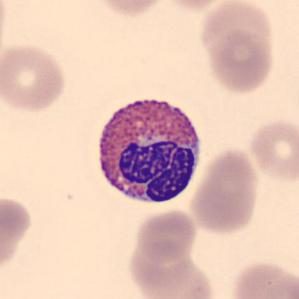Eosinophil: (89, 89, 207, 212)
RBC: (197, 0, 277, 92), (187, 146, 261, 235), (0, 40, 69, 115), (126, 242, 215, 299), (133, 206, 199, 262), (246, 115, 298, 184), (0, 193, 35, 275), (229, 258, 298, 299), (92, 0, 170, 18), (159, 0, 234, 12), (0, 0, 9, 53)
